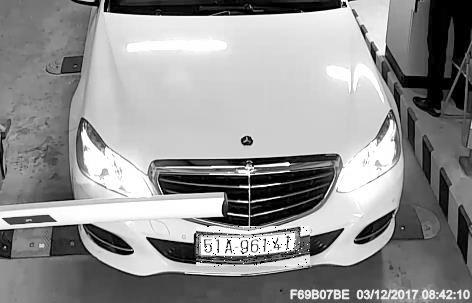License-plate: (197, 228, 311, 269)
